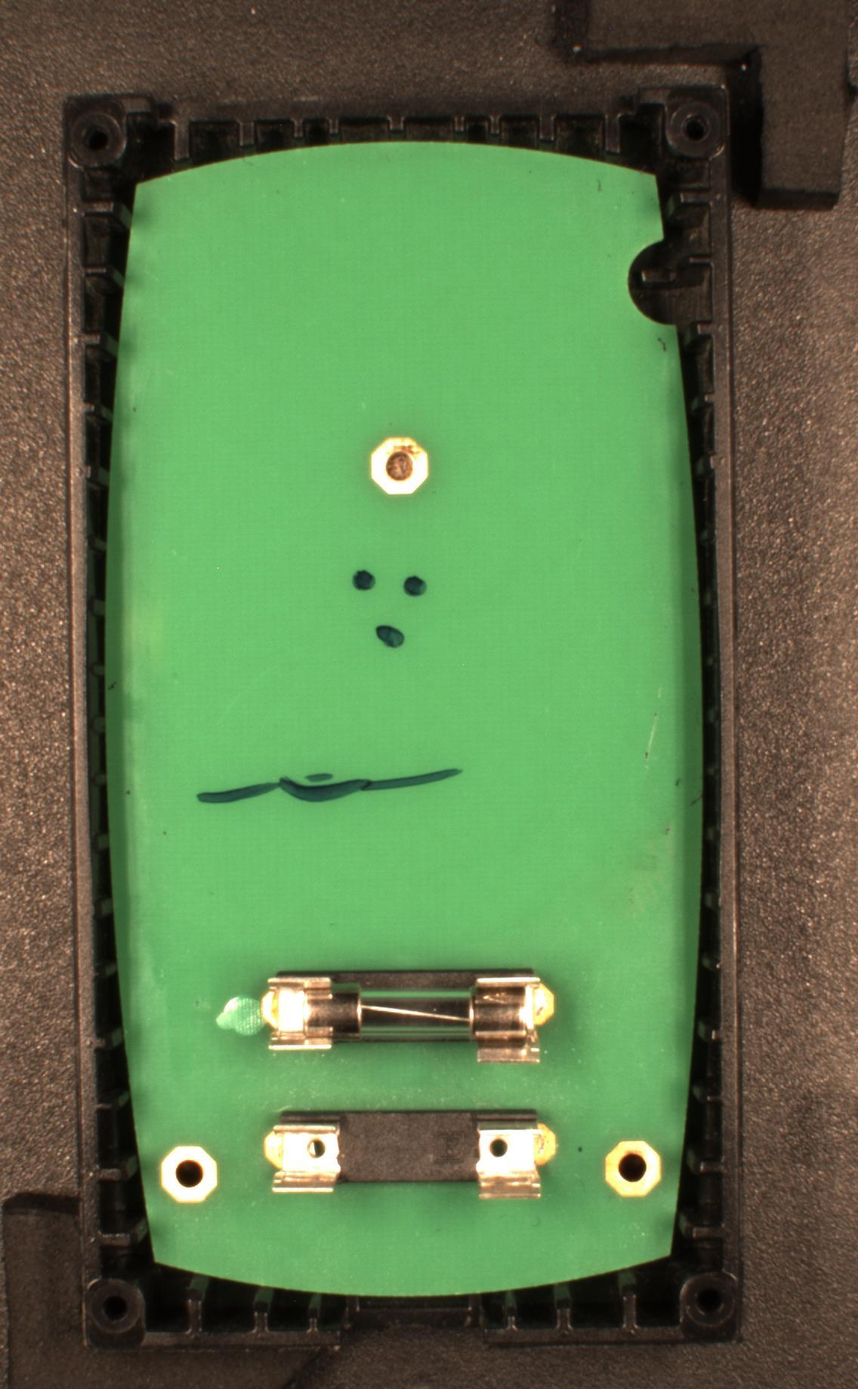Linijsko Ostecene: (193, 764, 467, 806)
Nepostojanje osiguraca: (262, 1105, 559, 1202)
Tockasto Ostecenje: (375, 623, 406, 649), (351, 568, 378, 594), (401, 574, 428, 599)
